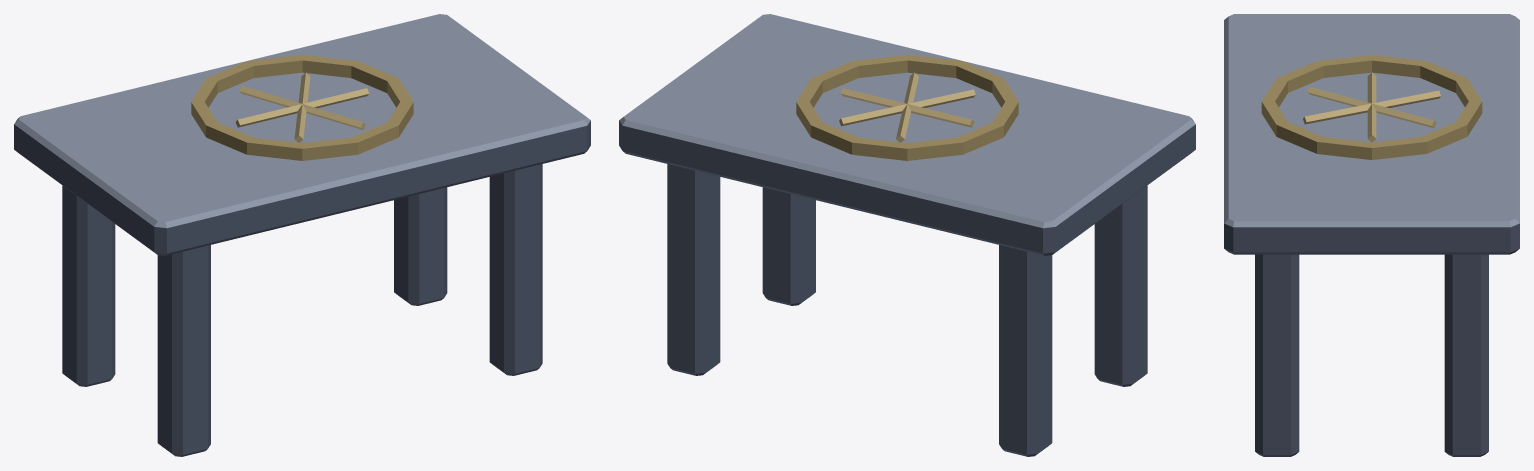
File: star-chart.glb
3 views of the same model, side by side, from view 1: azimuth 30°, elevation 25°; view 2: azimuth 150°, elevation 25°; view 3: azimuth 270°, elevation 25° (orthographic).
Visible parts, largest first — view 1: star-chart__body; view 2: star-chart__body; view 3: star-chart__body.
Boxes of the visible parts, box(x1,y1,x2,y2) form: star-chart__body: box(14, 14, 590, 456); star-chart__body: box(619, 14, 1195, 456); star-chart__body: box(1224, 14, 1519, 456).
Bounding box in the file's own units: 1.35 × 0.798 × 0.8.
